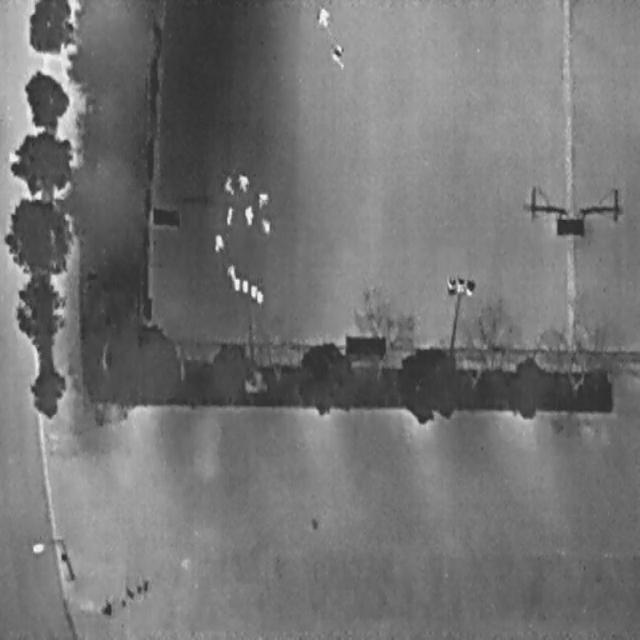Person: (331, 42, 344, 66), (317, 6, 329, 26), (237, 172, 248, 192), (257, 190, 269, 208), (223, 175, 233, 194), (224, 205, 233, 224), (243, 205, 252, 224), (214, 234, 224, 251), (226, 262, 235, 280), (261, 218, 270, 234)
